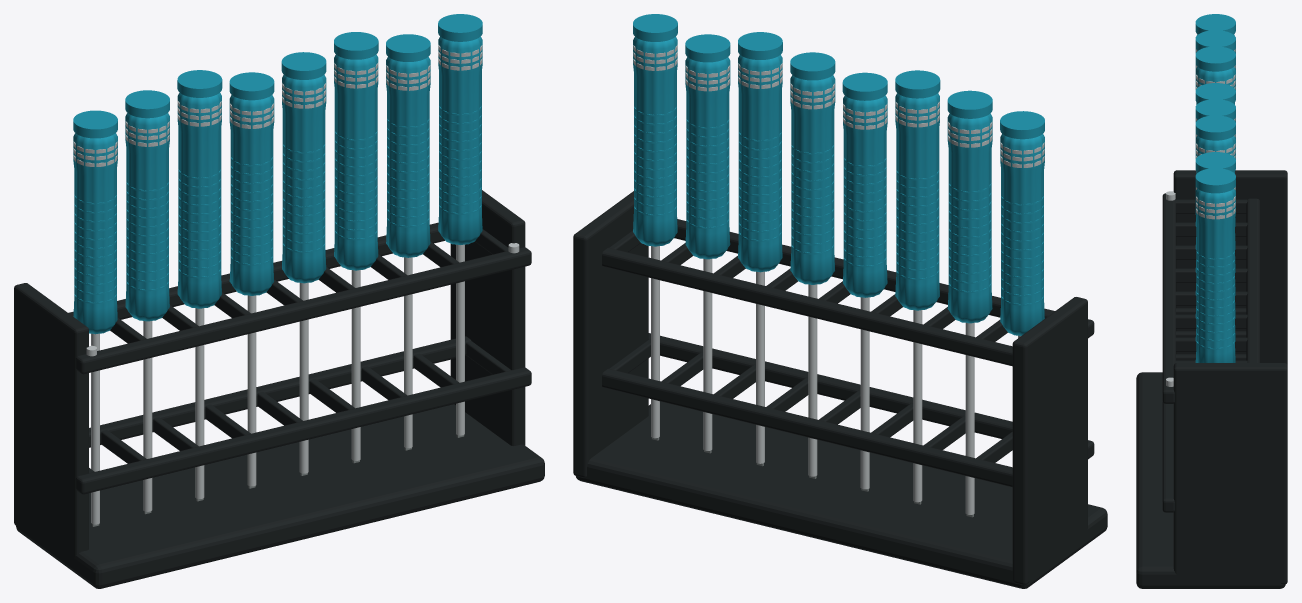
The model's file is lod0_source.glb.
The picture shows the model from 3 angles, left to right: view 1: azimuth 30°, elevation 25°; view 2: azimuth 150°, elevation 25°; view 3: azimuth 270°, elevation 25°; orthographic projection. The views are drawn at different scales.
Visible parts, largest first — view 1: Black rack base, Rack upright, Rack upright.001, Rack horizontal holder rail, Rack horizontal holder rail.002, Blue anodised grip 02, Blue anodised grip 05, Blue anodised grip 04, Blue anodised grip 07, Blue anodised grip 01, Blue anodised grip 03, Blue anodised grip 06 (+27 smaller); view 2: Black rack base, Rack upright, Rack upright.001, Rack horizontal holder rail.003, Rack horizontal holder rail.001, Blue anodised grip 05, Blue anodised grip 02, Blue anodised grip 01, Blue anodised grip 04, Blue anodised grip 07, Blue anodised grip 06, Blue anodised grip 03 (+18 smaller); view 3: Rack upright.001, Black rack base, Rack upright, Blue anodised grip 07, Rack horizontal holder rail.002, Rack horizontal holder rail.003, Rack horizontal holder rail, Blue rotating end cap 02, Blue rotating end cap 05, Blue rotating end cap 07, Blue rotating end cap 00, Blue rotating end cap 01 (+15 smaller).
Part boxes in pixels (x1,y1,x2,y2): Black rack base: [16, 404, 544, 588]; Rack upright: [14, 283, 88, 557]; Rack upright.001: [450, 190, 525, 445]; Rack horizontal holder rail: [75, 367, 531, 494]; Rack horizontal holder rail.002: [75, 247, 531, 374]; Blue anodised grip 02: [177, 92, 221, 308]; Blue anodised grip 05: [334, 54, 378, 270]; Blue anodised grip 04: [282, 74, 326, 283]; Blue anodised grip 07: [438, 36, 482, 244]; Blue anodised grip 01: [125, 113, 169, 321]; Blue anodised grip 03: [229, 95, 274, 295]; Blue anodised grip 06: [386, 57, 430, 257]; Black rack base: [576, 401, 1107, 588]; Rack upright: [1012, 297, 1087, 585]; Rack upright.001: [573, 191, 648, 477]; Rack horizontal holder rail.003: [602, 247, 1046, 369]; Rack horizontal holder rail.001: [602, 368, 1046, 490]; Blue anodised grip 05: [738, 54, 782, 272]; Blue anodised grip 02: [895, 93, 939, 310]; Blue anodised grip 01: [947, 113, 992, 323]; Blue anodised grip 04: [790, 75, 835, 284]; Blue anodised grip 07: [633, 37, 677, 246]; Blue anodised grip 06: [685, 57, 730, 259]; Blue anodised grip 03: [843, 95, 887, 297]; Rack upright.001: [1173, 363, 1287, 584]; Black rack base: [1136, 372, 1285, 588]; Rack upright: [1173, 170, 1287, 364]; Blue anodised grip 07: [1195, 188, 1235, 362]; Rack horizontal holder rail.002: [1162, 193, 1175, 403]; Rack horizontal holder rail.003: [1246, 198, 1259, 402]; Rack horizontal holder rail: [1162, 402, 1174, 512]; Blue rotating end cap 02: [1195, 46, 1235, 71]; Blue rotating end cap 05: [1195, 115, 1235, 140]; Blue rotating end cap 07: [1195, 168, 1235, 193]; Blue rotating end cap 00: [1195, 14, 1235, 34]; Blue rotating end cap 01: [1195, 30, 1235, 50].
Bounding box in the file's own units: 0.314 × 0.296 × 0.101.
